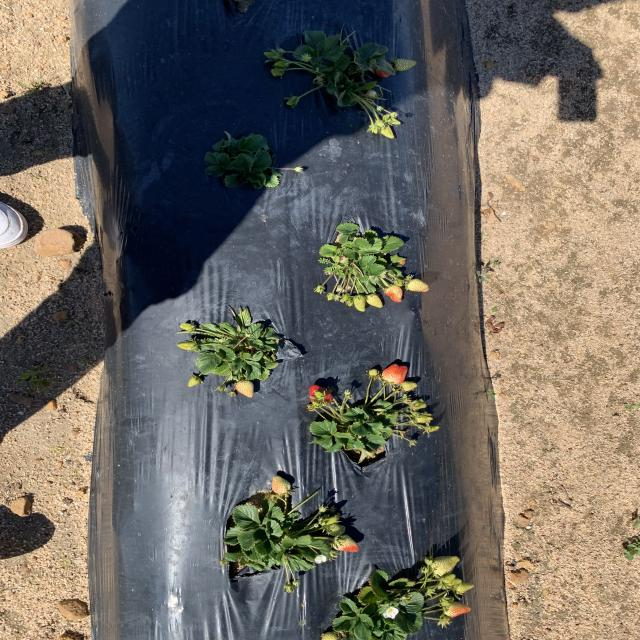unripe: (381, 362, 408, 385), (308, 384, 332, 403), (376, 66, 392, 80)
